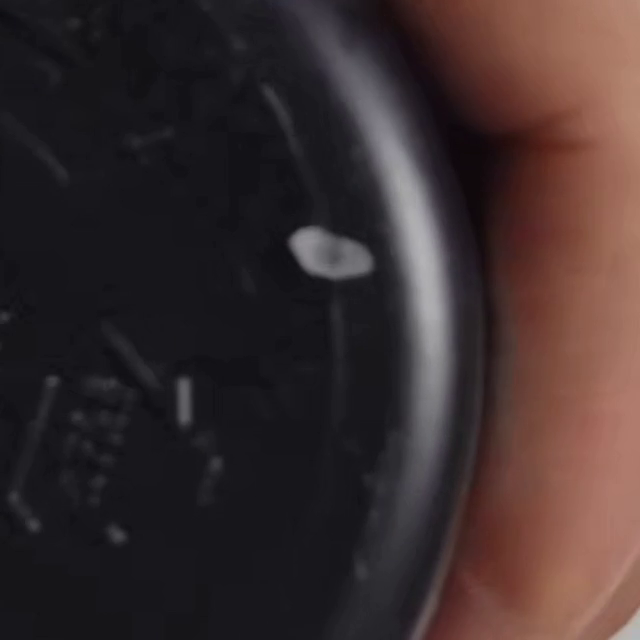Plastic: (8, 311, 224, 551)
